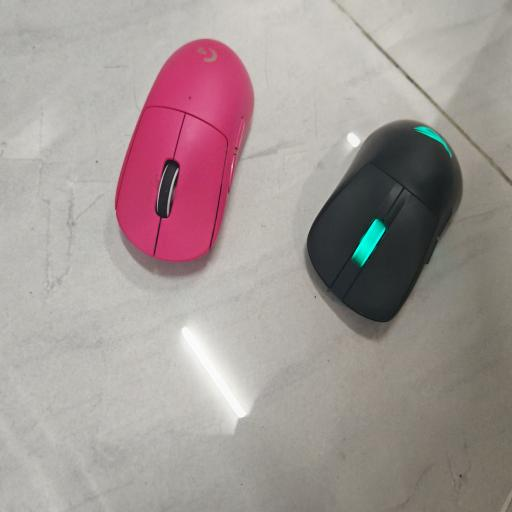mouse: (307, 120, 462, 322), (115, 39, 254, 261)
